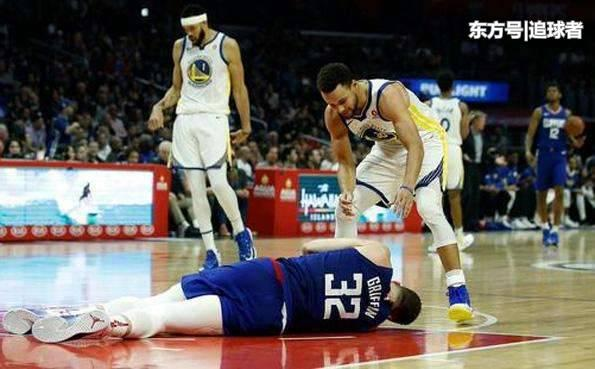bending: (320, 62, 473, 324)
down: (1, 231, 432, 347)
up: (146, 10, 269, 275), (417, 68, 482, 255), (517, 80, 579, 253)
